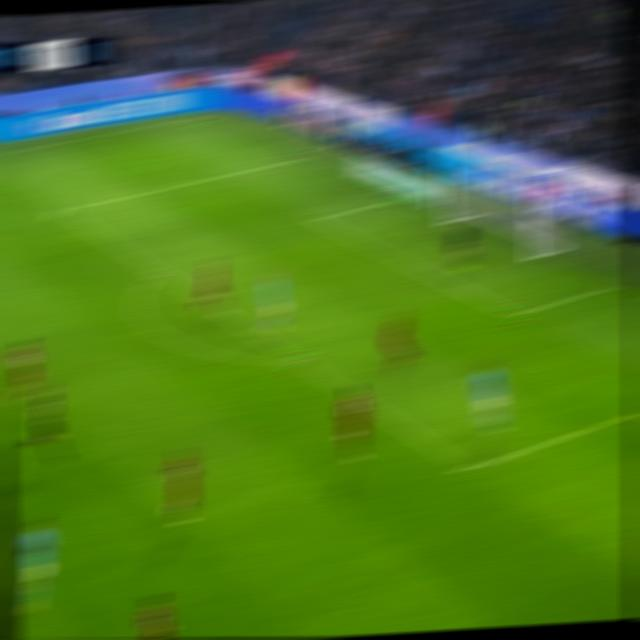bigarea_bottom_inner: (452, 454, 486, 483)
bigarea_top_inner: (45, 197, 77, 223)
bigarea_top_outter: (283, 149, 311, 167)
bottom_arc_area_intersection: (282, 347, 314, 373)
corner: (183, 109, 213, 125)
smallarea_bottom_inner: (499, 299, 532, 328)
smallarea_bottom_outter: (589, 275, 619, 297)
smallarea_top_inner: (302, 209, 331, 231)
smallarea_top_outter: (378, 189, 406, 209)
top_arc_area_intersection: (142, 259, 171, 282)
